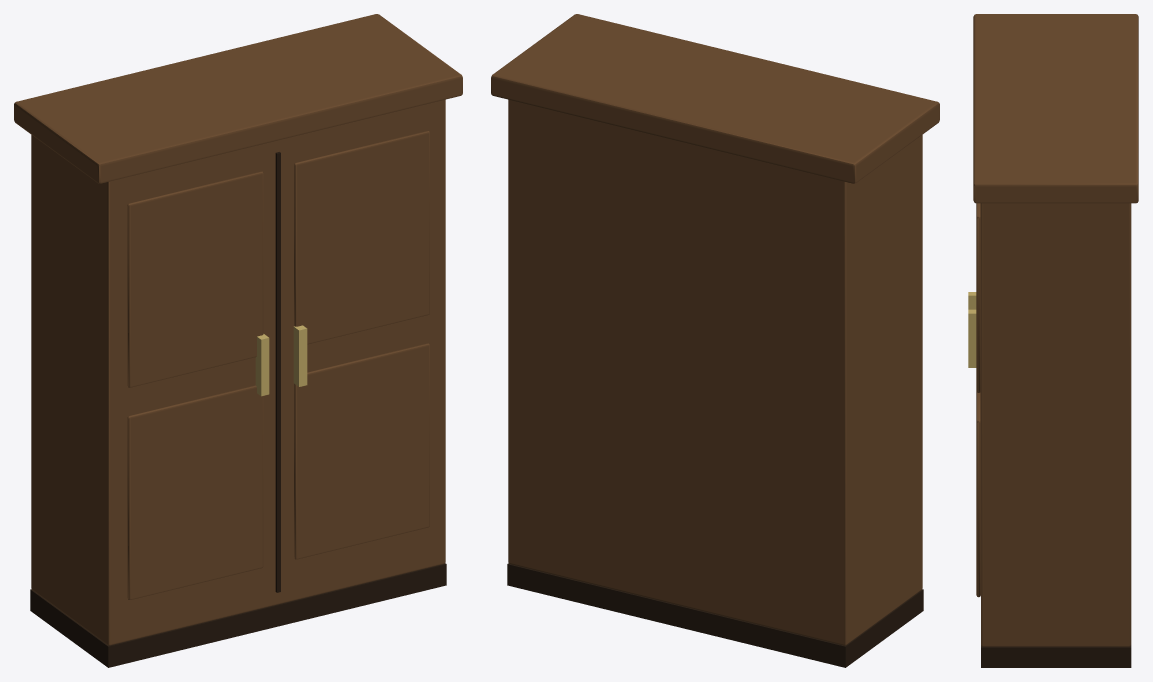
The model's file is wardrobe.glb.
3 renders of one model, left to right at view 1: azimuth 30°, elevation 25°; view 2: azimuth 150°, elevation 25°; view 3: azimuth 270°, elevation 25°, orthographic. The views are drawn at different scales.
Parts seen in each view (by area): view 1: part-wood, part-gap, part-brass; view 2: part-wood, part-gap; view 3: part-wood, part-gap, part-brass.
Part boxes in pixels (x1=…): part-wood: x1=14, y1=14, x2=462, y2=645; part-gap: x1=30, y1=152, x2=446, y2=667; part-brass: x1=255, y1=325, x2=307, y2=396; part-wood: x1=491, y1=14, x2=939, y2=645; part-gap: x1=507, y1=563, x2=923, y2=667; part-wood: x1=973, y1=14, x2=1138, y2=646; part-gap: x1=981, y1=645, x2=1131, y2=667; part-brass: x1=968, y1=292, x2=976, y2=367.
Bounding box in the file's own units: 54 × 72 × 22.7.
